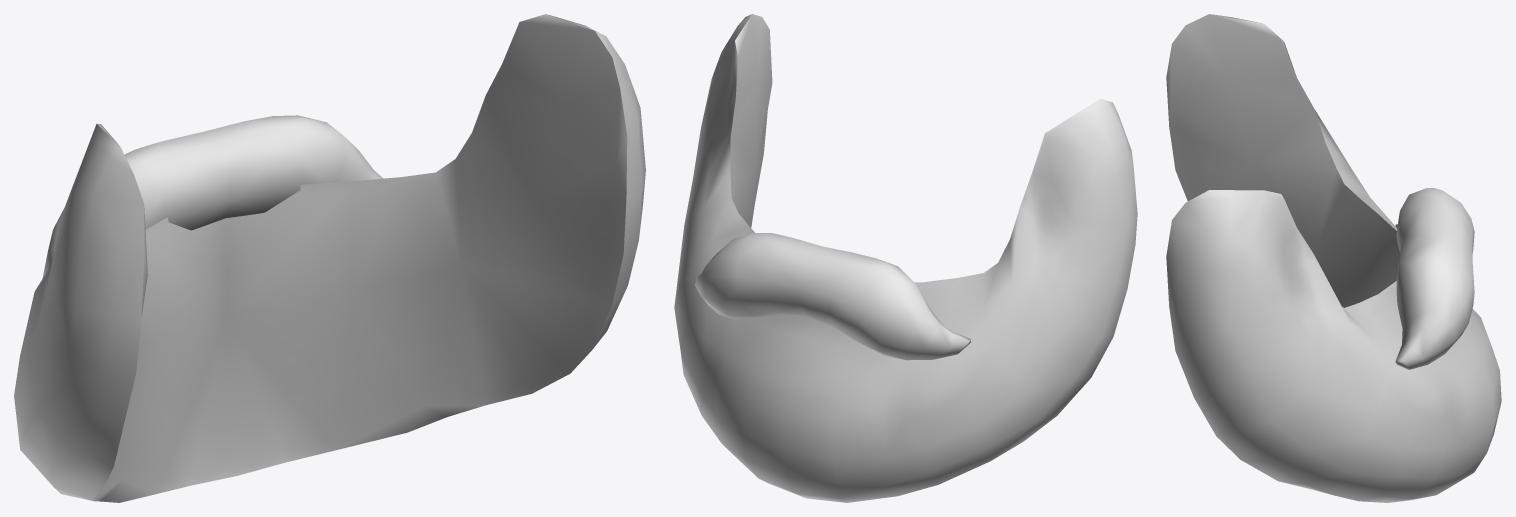
File: IG_FackMask_RussianBeard.fbx
3 views of the same model, side by side, from view 1: azimuth 30°, elevation 25°; view 2: azimuth 150°, elevation 25°; view 3: azimuth 270°, elevation 25° (orthographic). The views are drawn at different scales.
Parts seen in each view (by area): view 1: SM_RussianBeard; view 2: SM_RussianBeard; view 3: SM_RussianBeard.
Part boxes in pixels (x1,y1,x2,y2): SM_RussianBeard: (14,14,645,502); SM_RussianBeard: (674,14,1137,502); SM_RussianBeard: (1166,14,1501,502).
Bounding box in the file's own units: 0.5453 × 0.4418 × 0.3625.
